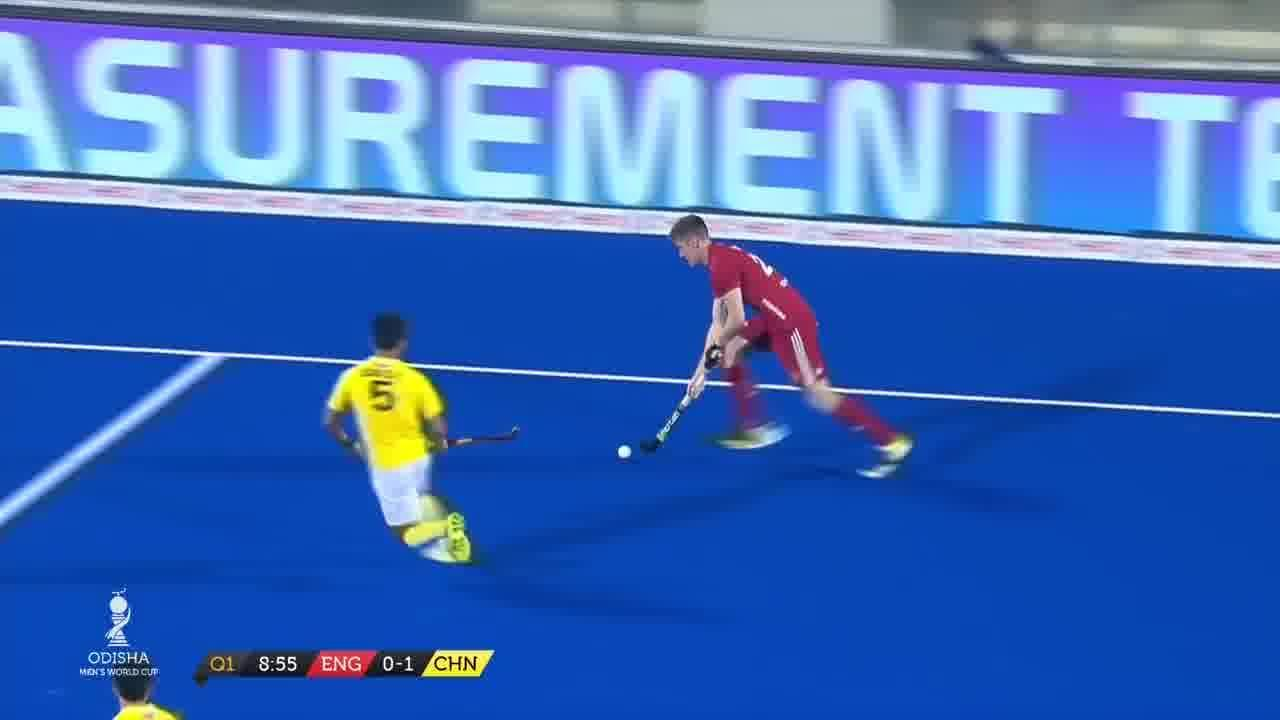ball: (616, 444, 636, 462)
